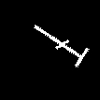double_crochet: (34, 25, 88, 65)
